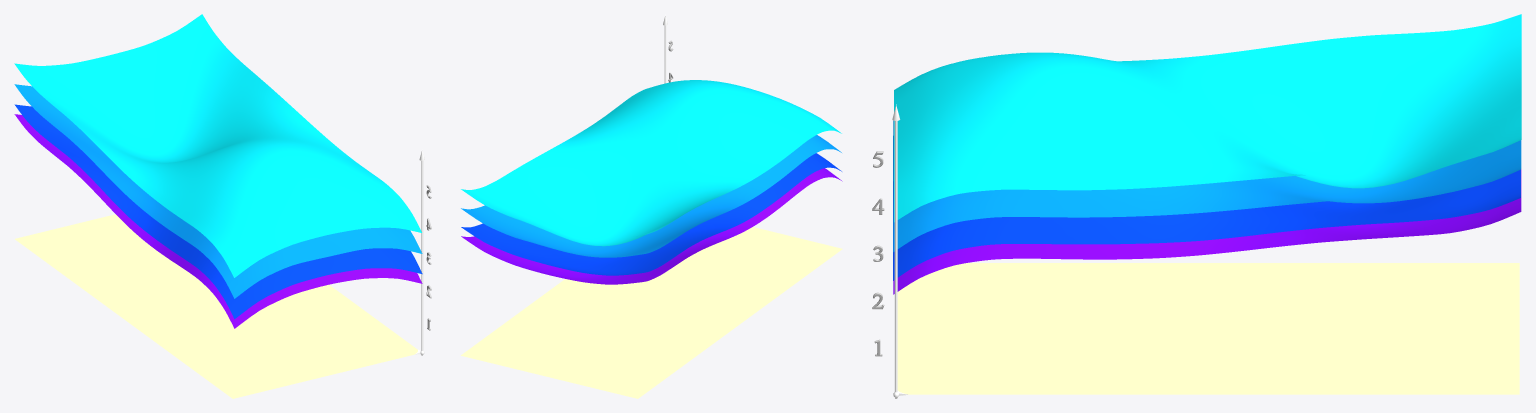
Rendered from dengyamian.gltf.
3 renders of one model, left to right at view 1: azimuth 30°, elevation 25°; view 2: azimuth 150°, elevation 25°; view 3: azimuth 270°, elevation 25°, orthographic. The views are drawn at different scales.
Parts seen in each view (by area): view 1: nurbsToPoly1, plan, nurbsToPoly2, nurbsToPoly3, nurbsToPoly4, arr; view 2: nurbsToPoly1, plan, nurbsToPoly3, nurbsToPoly2, nurbsToPoly4; view 3: nurbsToPoly1, plan, nurbsToPoly3, nurbsToPoly2, nurbsToPoly4, arr, number.
Boxes of the visible parts, <box> form: nurbsToPoly1: <box>14,14,421,277</box>; plan: <box>15,214,417,398</box>; nurbsToPoly2: <box>14,84,422,298</box>; nurbsToPoly3: <box>14,104,422,319</box>; nurbsToPoly4: <box>14,114,422,328</box>; arr: <box>419,149,424,350</box>; nurbsToPoly1: <box>461,80,841,246</box>; plan: <box>461,227,842,398</box>; nurbsToPoly3: <box>461,153,841,275</box>; nurbsToPoly2: <box>461,135,841,257</box>; nurbsToPoly4: <box>461,168,842,284</box>; nurbsToPoly1: <box>894,14,1521,222</box>; plan: <box>897,263,1519,394</box>; nurbsToPoly3: <box>893,169,1520,280</box>; nurbsToPoly2: <box>893,120,1521,251</box>; nurbsToPoly4: <box>893,169,1521,294</box>; arr: <box>892,104,900,392</box>; number: <box>872,151,884,356</box>.
Size of the model in its own units: 50.64 by 52.22 by 104.
Materials: 1 (1 with a texture image).
